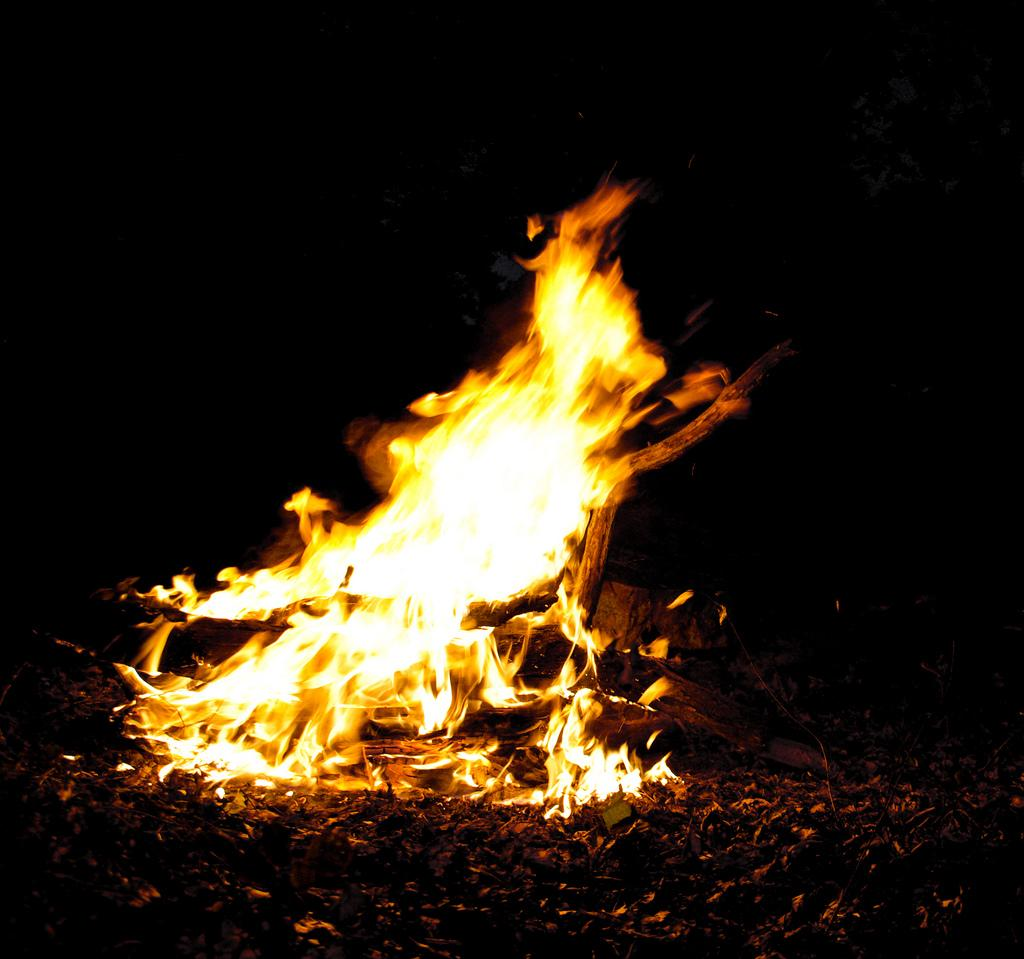fire: (425, 415, 565, 582), (545, 265, 635, 388), (280, 628, 422, 688)
